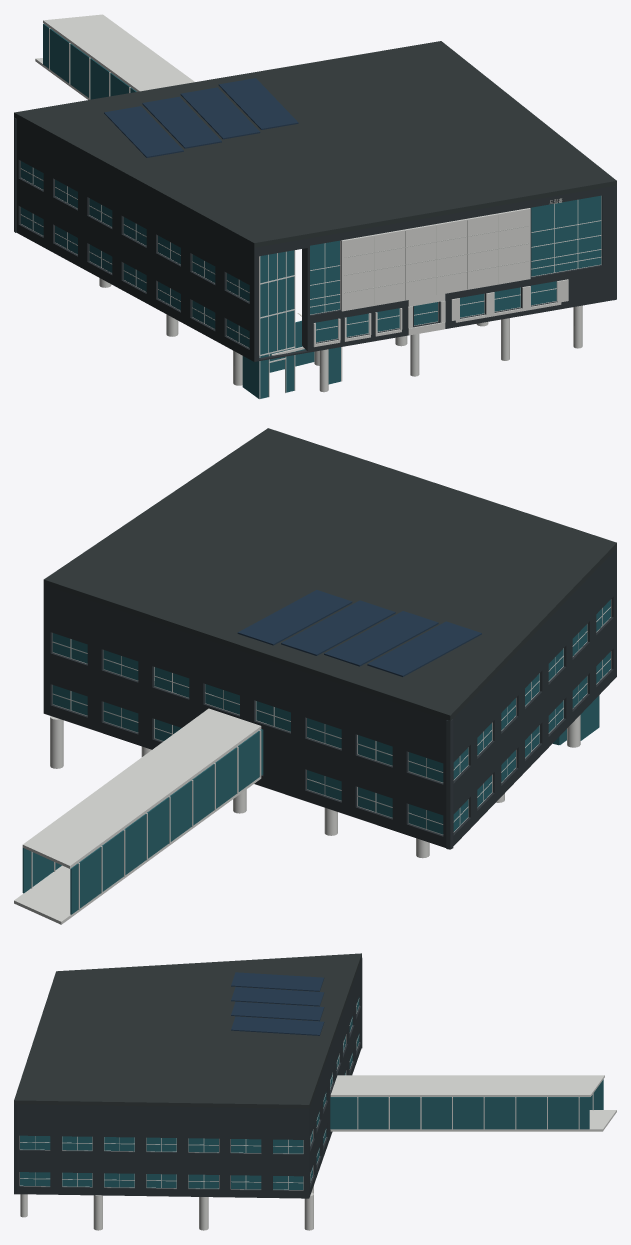
3 views of the same model, one above another, from view 1: azimuth 30°, elevation 25°; view 2: azimuth 150°, elevation 25°; view 3: azimuth 270°, elevation 25° (orthographic). The views are drawn at different scales.
Parts seen in each view (by area): view 1: blackroof, dark, white, artglass, solar, dream-pole, frame; view 2: blackroof, dark, artglass, white, solar, dream-pole; view 3: blackroof, dark, artglass, white, solar, dream-pole.
Boxes of the visible parts, bbox=[...] form: blackroof: bbox=[14, 41, 616, 247]; dark: bbox=[14, 117, 616, 361]; white: bbox=[20, 14, 601, 399]; artglass: bbox=[20, 24, 601, 398]; solar: bbox=[104, 78, 298, 157]; dream-pole: bbox=[99, 278, 582, 392]; frame: bbox=[344, 215, 528, 305]; blackroof: bbox=[43, 428, 616, 720]; dark: bbox=[43, 548, 616, 849]; artglass: bbox=[22, 599, 610, 914]; white: bbox=[14, 599, 611, 924]; solar: bbox=[237, 590, 481, 676]; dream-pole: bbox=[50, 715, 580, 858]; blackroof: bbox=[14, 953, 361, 1108]; dark: bbox=[14, 958, 362, 1198]; artglass: bbox=[20, 997, 603, 1189]; white: bbox=[19, 998, 616, 1190]; solar: bbox=[231, 972, 324, 1035]; dream-pole: bbox=[20, 1186, 313, 1230].
Size of the model in its own units: 34.04 by 13.53 by 57.18.
9 materials, 1 textured.
